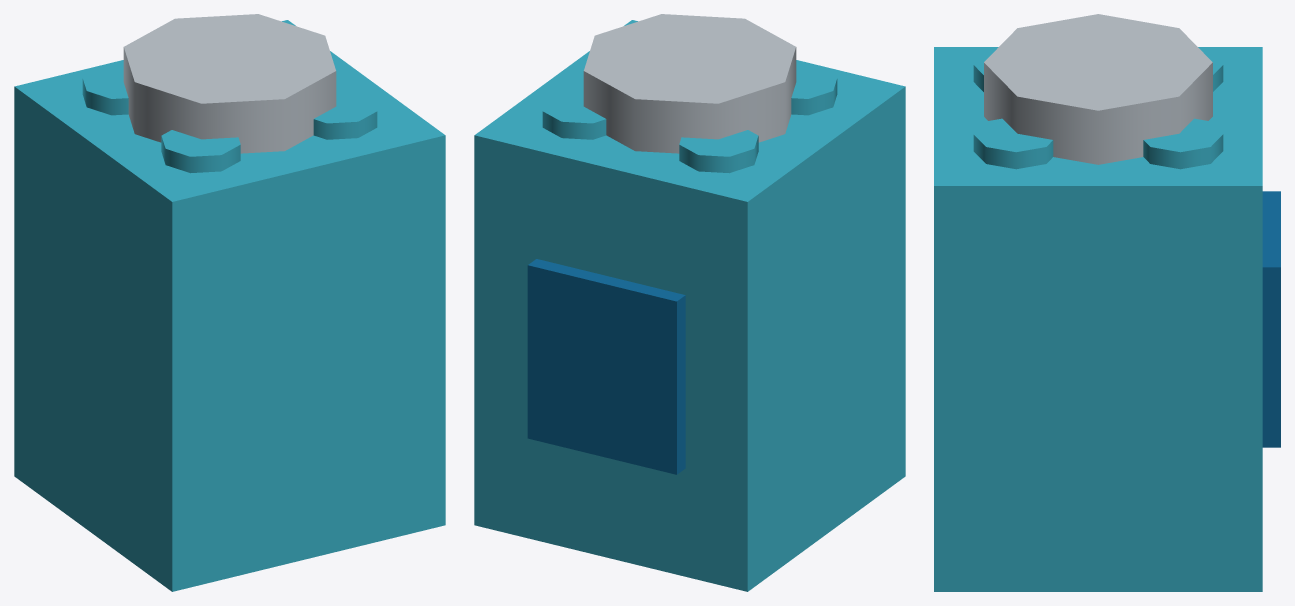
Rendered from LegoShieldMini.glb.
3 renders of one model, left to right at view 1: azimuth 30°, elevation 25°; view 2: azimuth 150°, elevation 25°; view 3: azimuth 270°, elevation 25°, orthographic. The views are drawn at different scales.
Parts seen in each view (by area): view 1: LegoShieldMini; view 2: LegoShieldMini; view 3: LegoShieldMini.
Boxes of the visible parts, left/top/right/bottom form: LegoShieldMini: left=14, top=14, right=445, bottom=591; LegoShieldMini: left=474, top=14, right=905, bottom=591; LegoShieldMini: left=934, top=14, right=1280, bottom=591.
Bounding box in the file's own units: 0.198 × 0.306 × 0.209.
